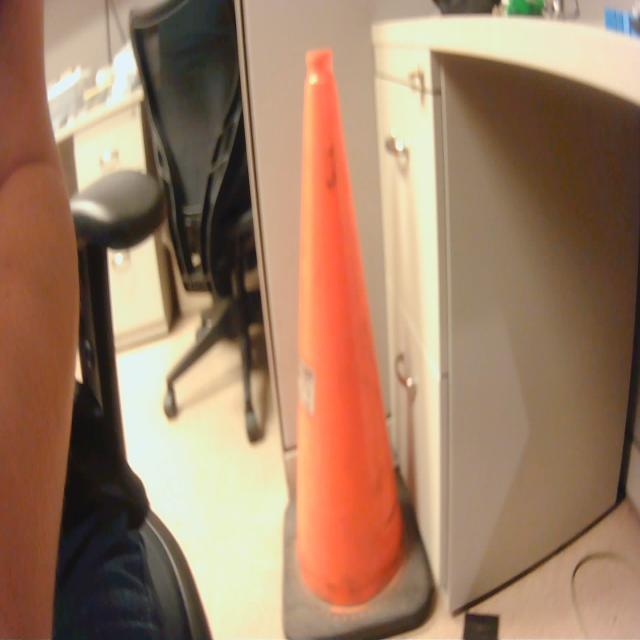traffic cone: (275, 34, 444, 640)
